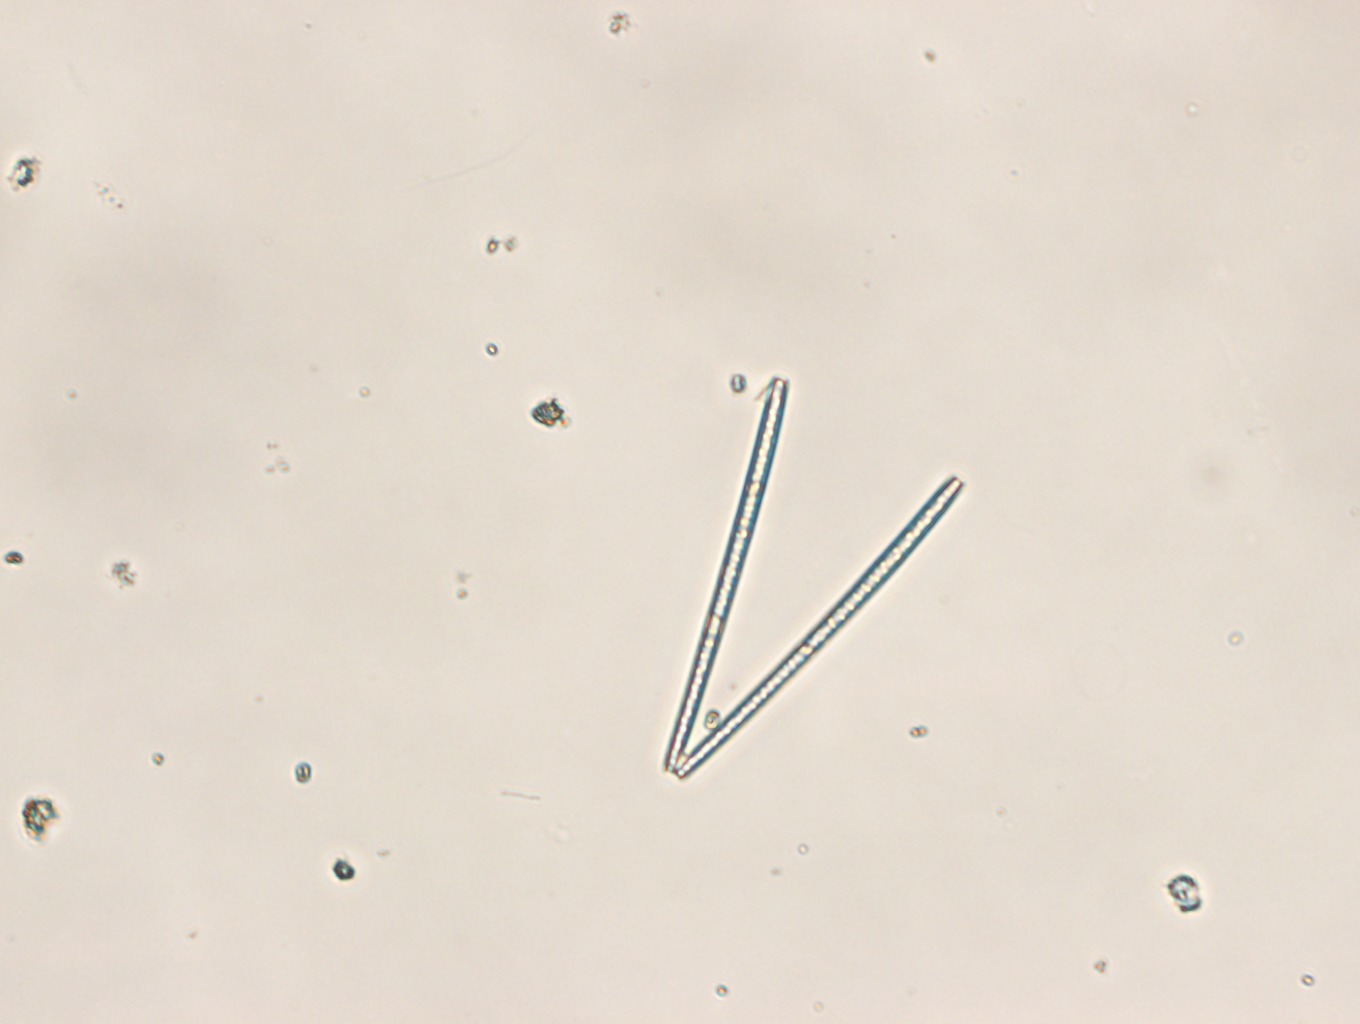thalassionema frauenfeldii: (663, 378, 962, 779)
